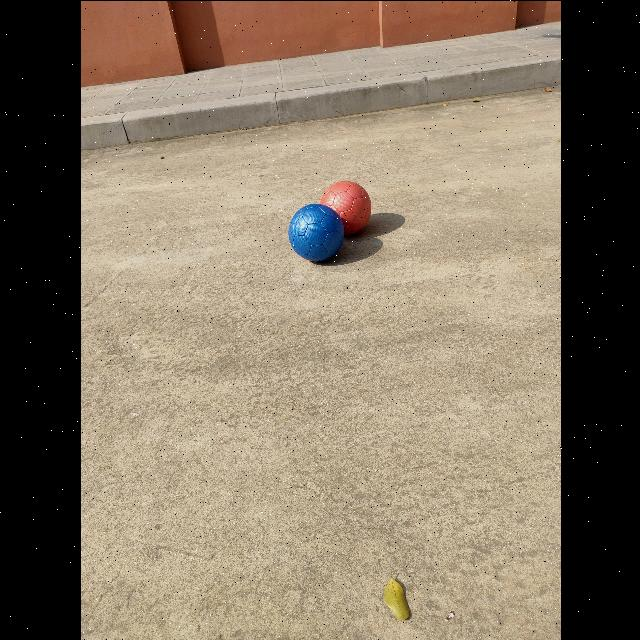B: (287, 203, 344, 260)
R: (319, 180, 370, 234)
